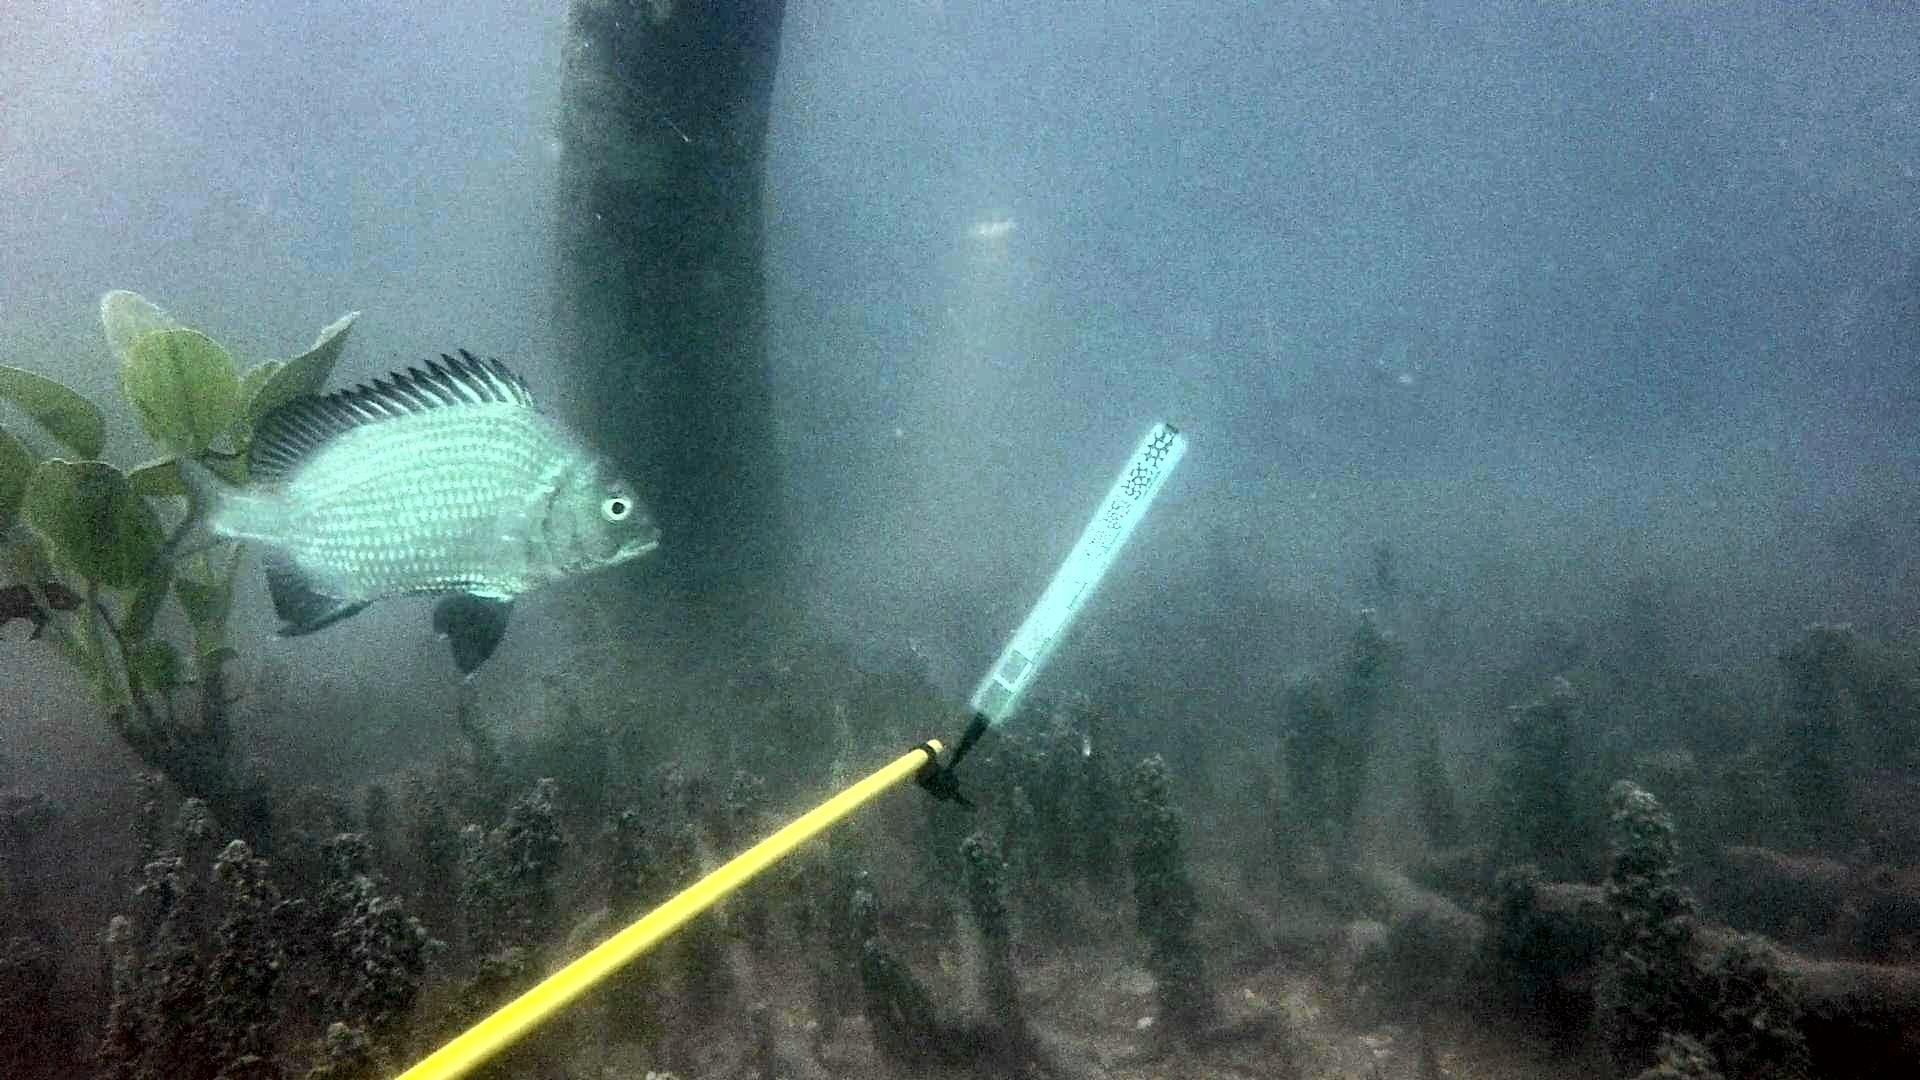acanthopagrus palmaris: (121, 338, 674, 688)
